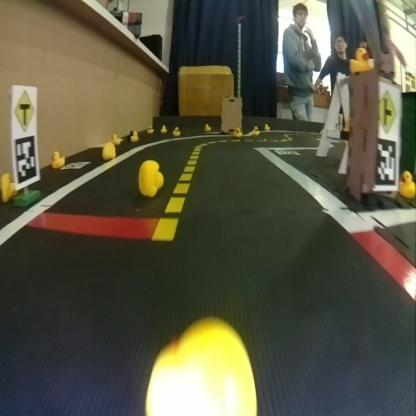Duckie: (145, 322, 256, 414), (138, 160, 160, 194), (348, 48, 370, 72), (1, 174, 15, 200), (399, 170, 412, 196), (102, 142, 115, 158), (51, 151, 64, 166), (110, 133, 121, 144), (130, 131, 139, 140), (234, 127, 241, 136), (173, 127, 179, 136), (204, 123, 210, 131), (253, 126, 259, 134), (160, 124, 165, 132), (146, 126, 152, 132), (264, 125, 270, 131)
Intersection sign: (12, 88, 35, 132), (378, 88, 397, 134)
QR code: (375, 137, 398, 185), (16, 134, 36, 185), (61, 160, 89, 169)
